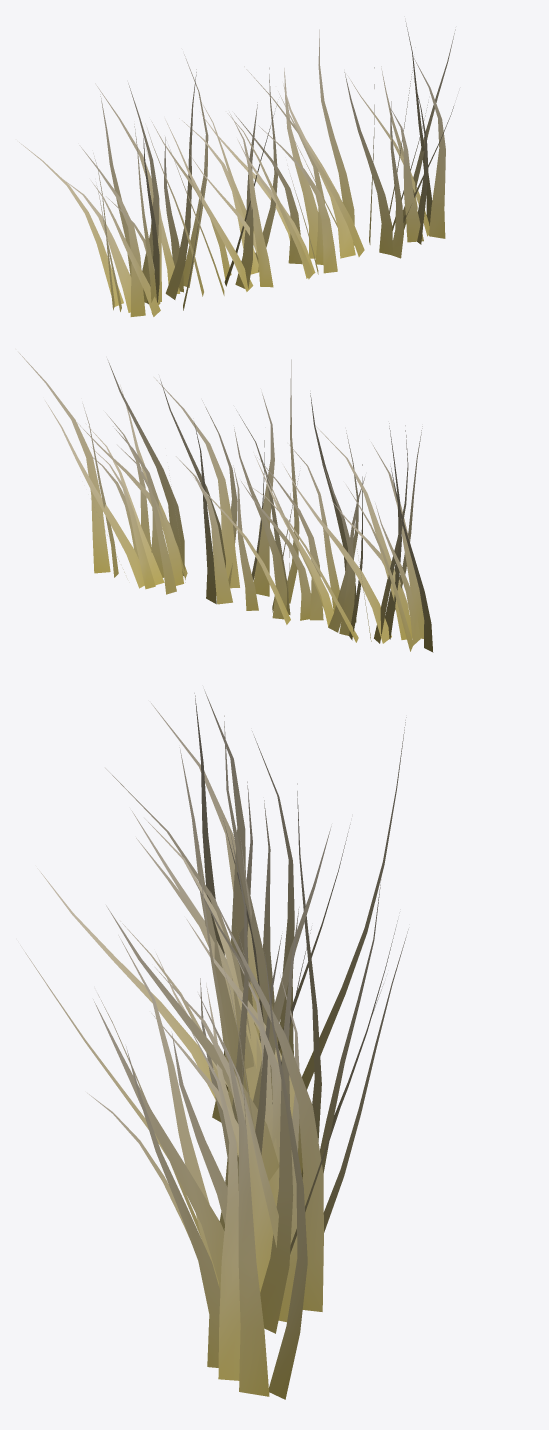
Rendered from mesh-plant-004-copper-blade_LOD1.glb.
3 views of the same model, one above another, from view 1: azimuth 30°, elevation 25°; view 2: azimuth 150°, elevation 25°; view 3: azimuth 270°, elevation 25° (orthographic). The views are drawn at different scales.
Visible parts, largest first — view 1: geometry_0; view 2: geometry_0; view 3: geometry_0.
Part boxes in pixels (left/top/right/bottom): geometry_0: left=19, top=21, right=455, bottom=316; geometry_0: left=18, top=352, right=433, bottom=652; geometry_0: left=20, top=689, right=408, bottom=1399.
Bounding box in the file's own units: 2.68 × 1.09 × 1.27.
